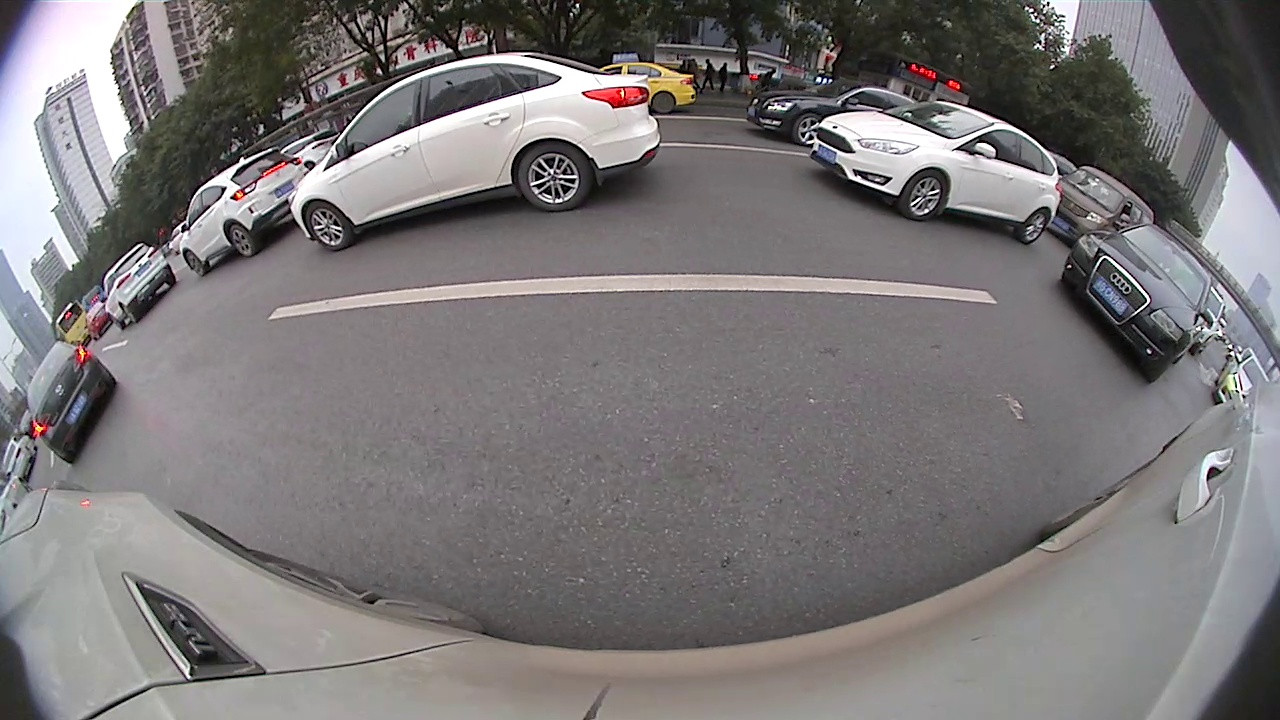car: (289, 49, 660, 254), (808, 100, 1061, 247), (1057, 222, 1215, 384), (179, 147, 309, 278), (23, 342, 118, 466), (744, 80, 911, 149), (1046, 164, 1154, 245), (97, 241, 177, 329), (590, 61, 698, 118), (1, 433, 37, 485)
front: (902, 168, 949, 223), (304, 200, 352, 251), (794, 113, 825, 146), (185, 252, 207, 277)
rear: (517, 139, 592, 213), (1018, 208, 1050, 245), (227, 224, 257, 259), (653, 90, 675, 115), (122, 306, 139, 325)
